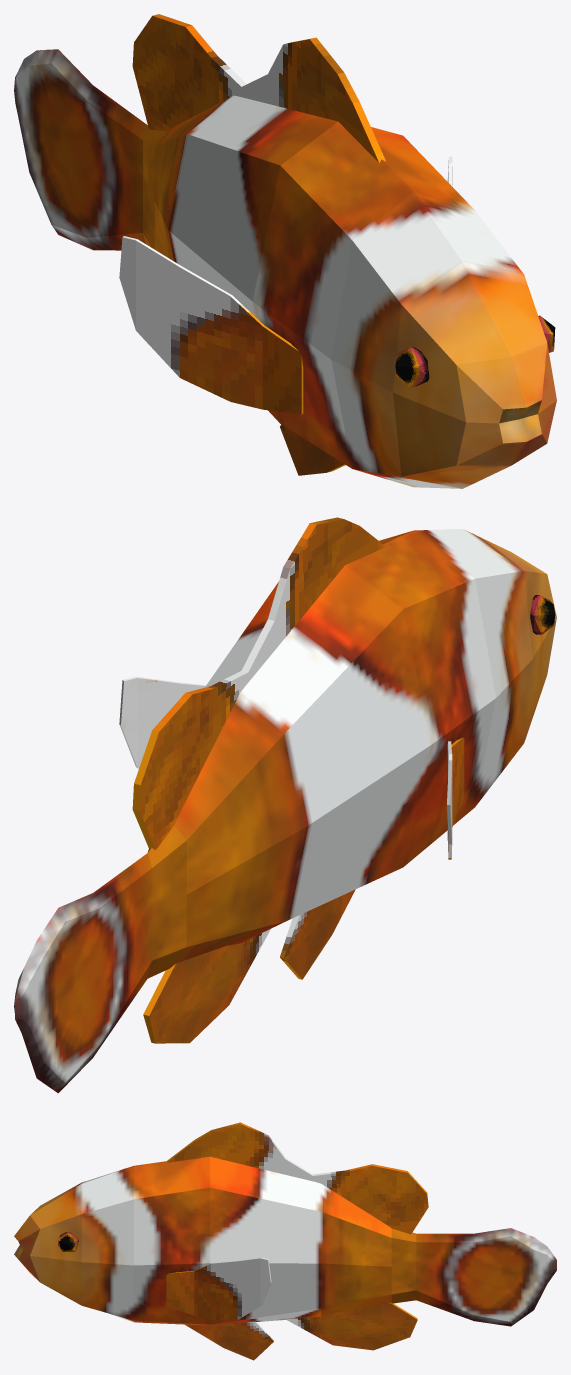
The model's file is Clown_Fish.fbx.
The picture shows the model from 3 angles, top to bottom: view 1: azimuth 30°, elevation 25°; view 2: azimuth 150°, elevation 25°; view 3: azimuth 270°, elevation 25°; orthographic projection. The views are drawn at different scales.
Parts seen in each view (by area): view 1: Cube, Cube.002, Cube.001, Cube.003, Icosphere; view 2: Cube, Cube.001, Cube.003, Cube.002, Icosphere; view 3: Cube, Cube.001, Cube.003, Cube.002, Icosphere.
Boxes of the visible parts, bbox=[...] form: Cube: bbox=[14, 49, 556, 488]; Cube.002: bbox=[119, 156, 452, 414]; Cube.001: bbox=[132, 14, 385, 162]; Cube.003: bbox=[280, 424, 345, 475]; Icosphere: bbox=[395, 315, 555, 386]; Cube: bbox=[14, 529, 556, 1093]; Cube.001: bbox=[132, 517, 385, 850]; Cube.003: bbox=[143, 889, 355, 1043]; Cube.002: bbox=[119, 676, 464, 859]; Icosphere: bbox=[530, 595, 555, 634]; Cube: bbox=[14, 1156, 556, 1326]; Cube.001: bbox=[167, 1122, 428, 1234]; Cube.003: bbox=[185, 1302, 417, 1360]; Cube.002: bbox=[166, 1257, 271, 1319]; Icosphere: bbox=[58, 1232, 78, 1251].
Bounding box in the file's own units: 0.2742 × 0.3535 × 0.7347.
Materials: 5 (5 with a texture image).
